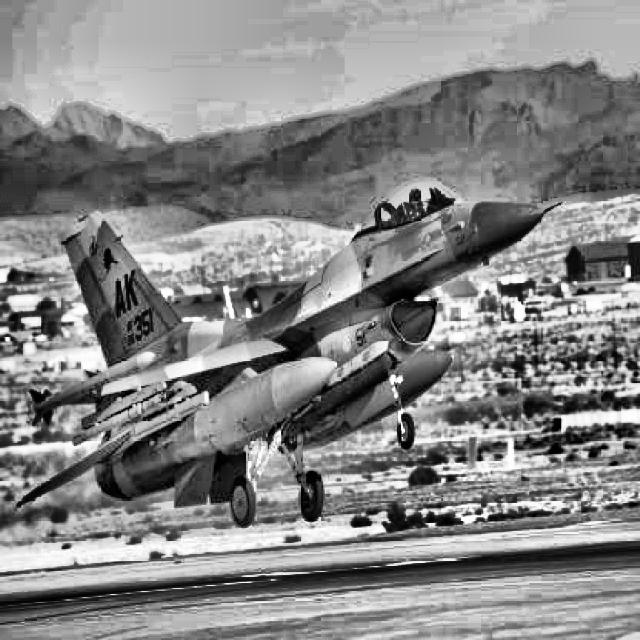F16: (14, 177, 563, 528)
